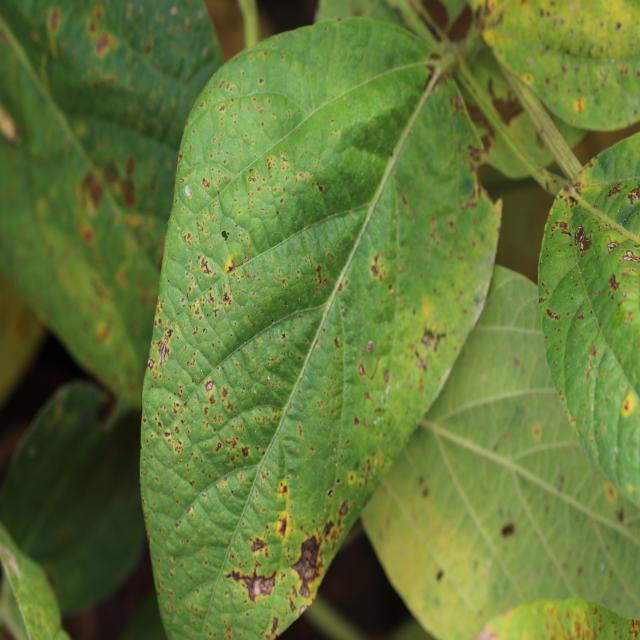Anthracnose: (288, 532, 326, 595), (225, 568, 277, 602), (488, 76, 522, 122), (80, 169, 105, 213), (0, 96, 22, 146), (309, 260, 330, 294), (421, 325, 444, 352), (575, 224, 593, 258), (369, 252, 389, 281), (224, 253, 249, 275), (459, 184, 478, 212), (195, 253, 214, 277), (157, 333, 171, 365), (549, 219, 571, 239), (121, 180, 136, 207), (620, 392, 636, 417), (467, 142, 486, 163), (95, 31, 112, 54), (423, 63, 438, 88), (95, 322, 110, 343), (250, 537, 268, 554), (620, 249, 640, 264), (417, 477, 430, 499), (627, 184, 640, 205), (267, 615, 279, 636), (276, 516, 288, 536), (608, 273, 620, 292), (501, 522, 515, 538), (544, 308, 561, 321), (573, 97, 585, 113), (607, 240, 620, 254), (338, 500, 349, 516), (277, 480, 288, 496), (616, 507, 625, 523), (222, 292, 231, 306), (435, 569, 444, 582), (366, 340, 375, 353), (221, 386, 229, 400), (241, 446, 250, 458), (205, 380, 214, 392), (147, 357, 155, 370), (221, 230, 230, 241), (214, 441, 222, 453), (334, 336, 341, 349), (202, 177, 210, 188), (358, 364, 365, 376), (326, 488, 334, 498), (353, 415, 360, 426), (317, 184, 324, 192), (175, 520, 181, 529), (281, 332, 286, 340)
Soybean: (140, 19, 499, 638)
